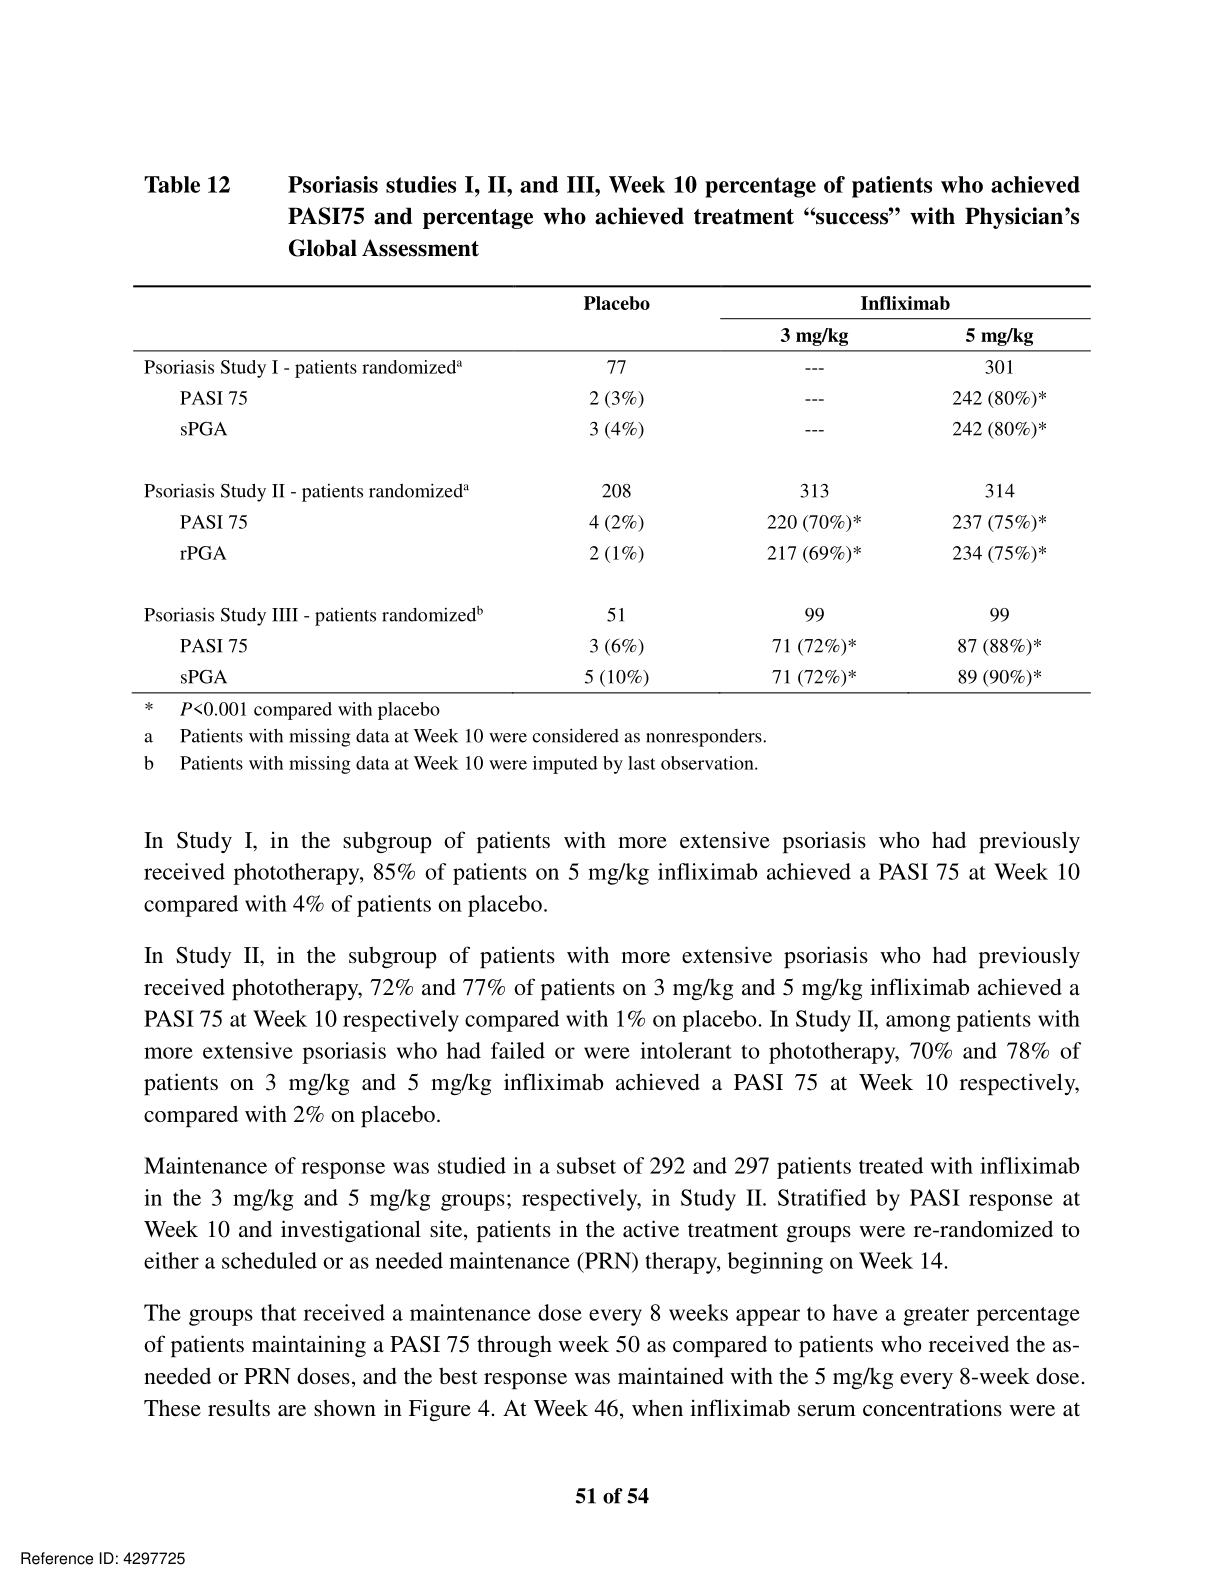partial_lined_merged_cells: (129, 284, 1093, 696)
